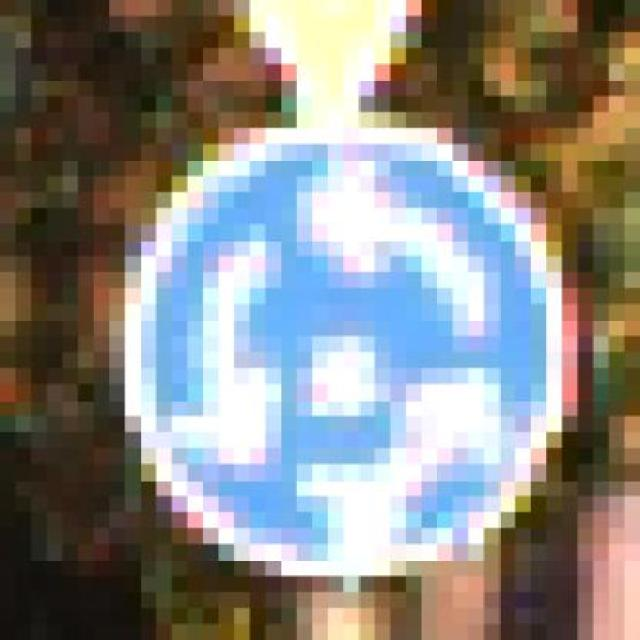Round-About: (46, 96, 625, 609)
